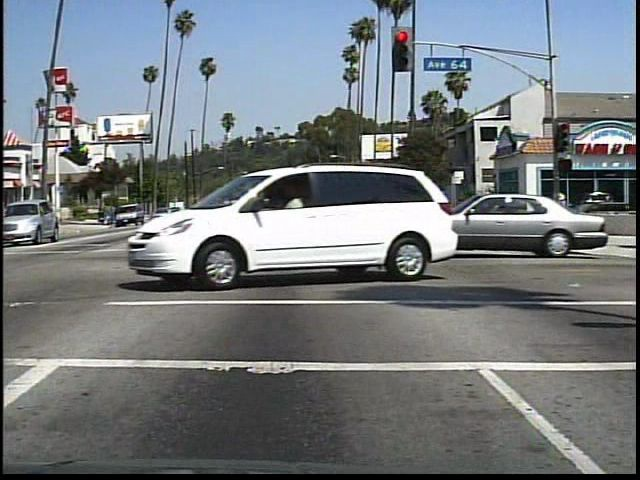person: (547, 187, 575, 238)
